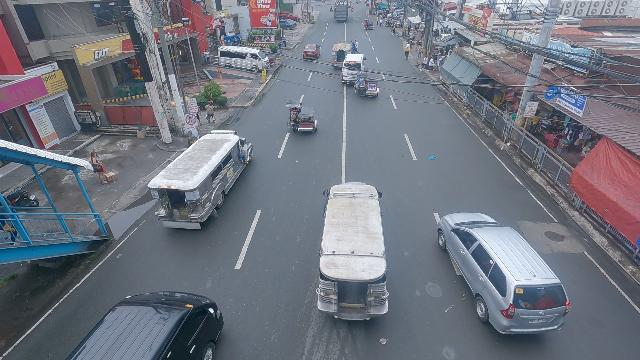car: (438, 212, 571, 338), (302, 43, 321, 60)
jeepney: (315, 179, 391, 324), (147, 128, 254, 229), (330, 42, 352, 67)
motorcycle: (330, 6, 333, 12)
truck: (334, 0, 349, 22)
van: (58, 287, 227, 360), (217, 45, 269, 73), (342, 53, 366, 85)
